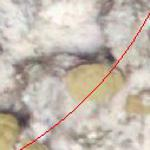alive: (3, 3, 146, 146)
